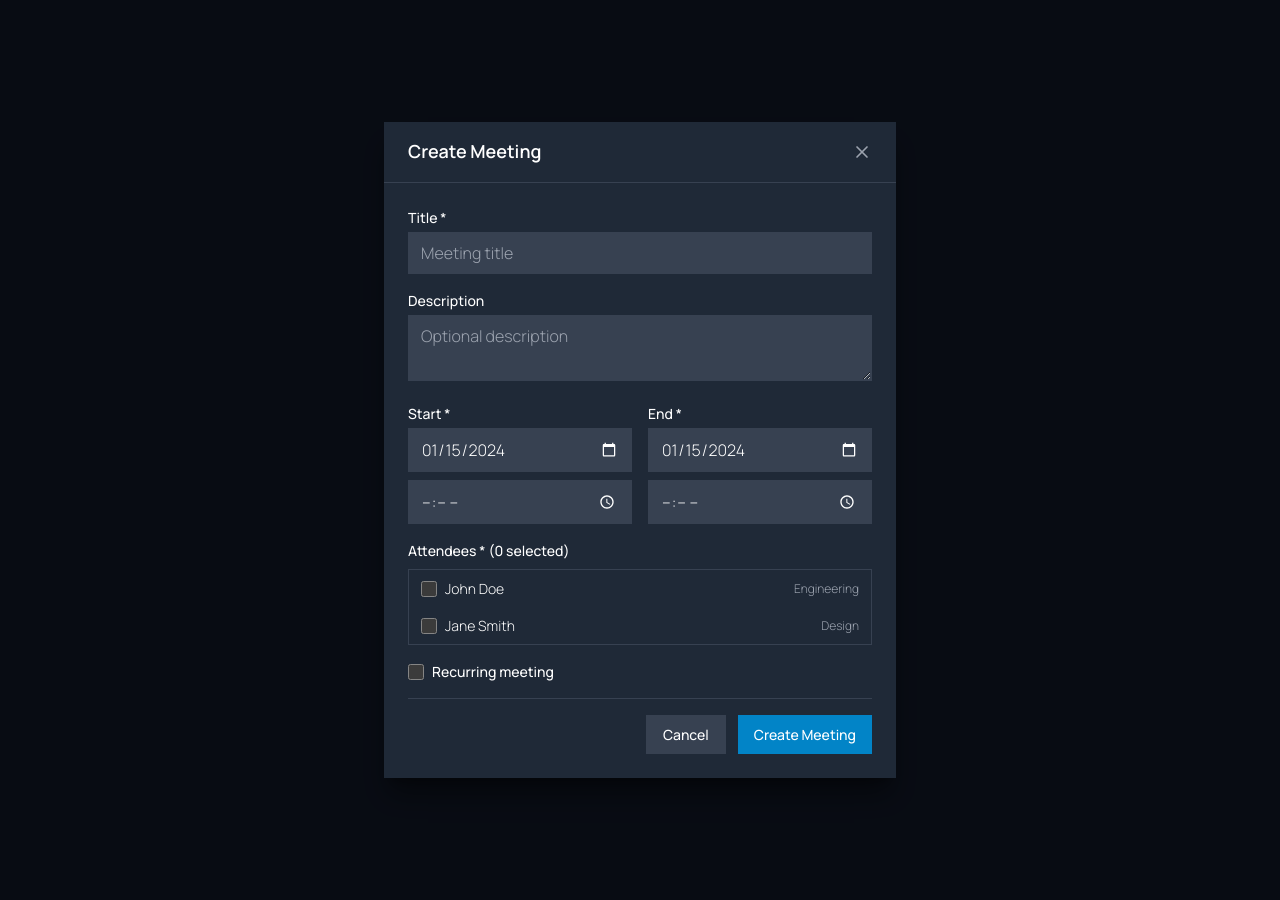
Test: CreateMeetingModal › form validation › shows error when title is empty
Click the button "Create Meeting": (805, 734) [738,715,872,754]
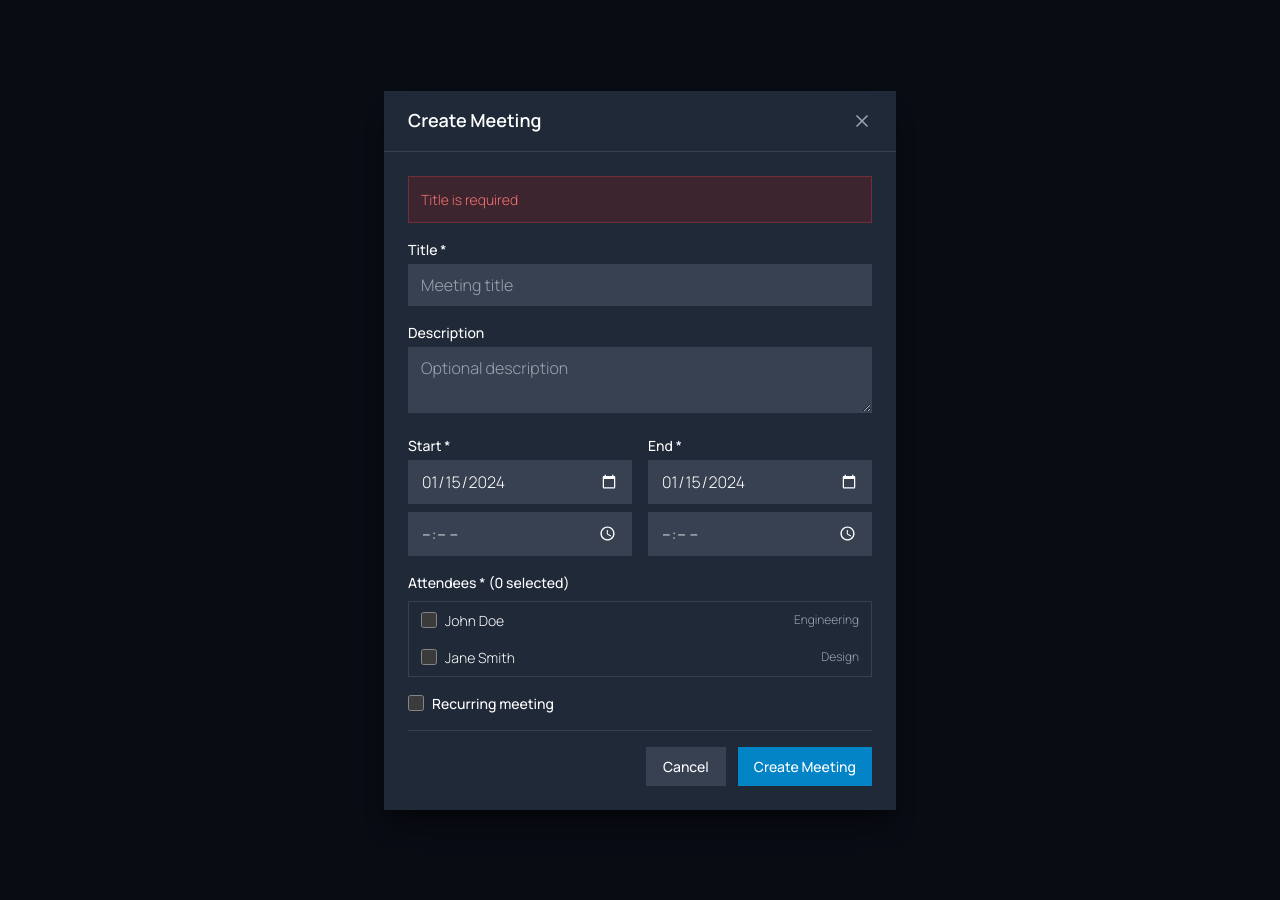
Check: the text "Title is required" is shown, box [408,176,872,222]
